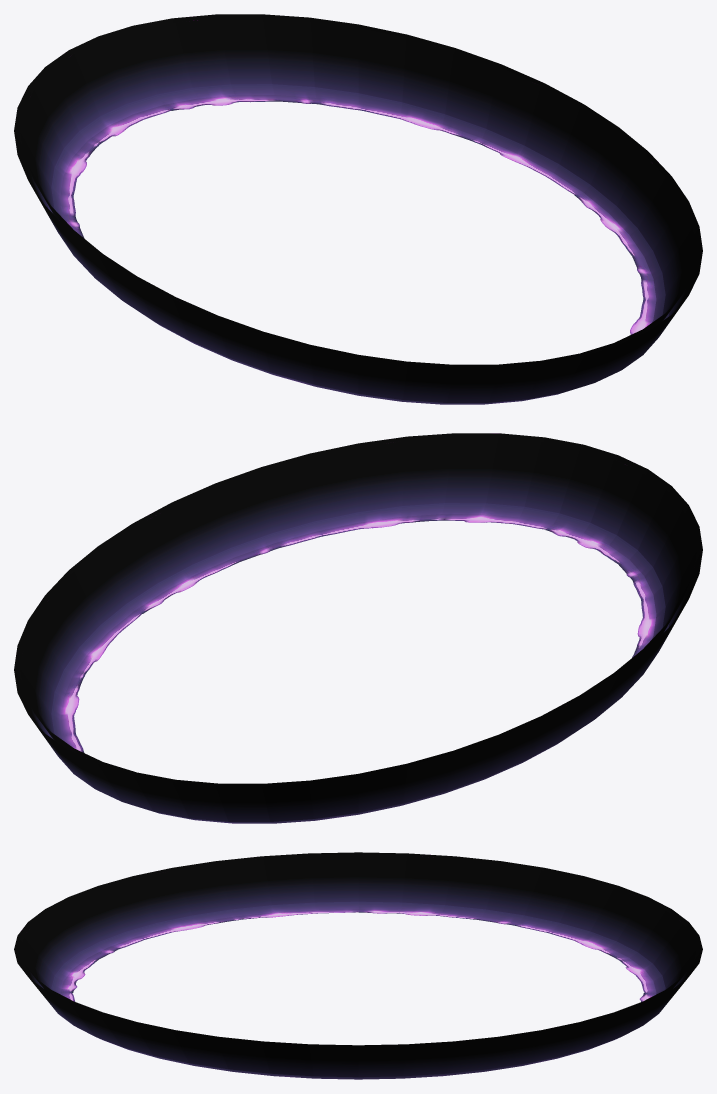
Rendered from p_charge_slow_dungeon.fbx.
3 views of the same model, one above another, from view 1: azimuth 30°, elevation 25°; view 2: azimuth 150°, elevation 25°; view 3: azimuth 270°, elevation 25° (orthographic). The views are drawn at different scales.
Visible parts, largest first — view 1: ring_inner, ring_outer; view 2: ring_inner, ring_outer; view 3: ring_inner, ring_outer.
Part boxes in pixels (bbox=[...]): ring_inner: bbox=[20, 18, 696, 367]; ring_outer: bbox=[14, 14, 702, 404]; ring_inner: bbox=[20, 437, 696, 786]; ring_outer: bbox=[14, 433, 702, 823]; ring_inner: bbox=[20, 855, 696, 1046]; ring_outer: bbox=[14, 852, 702, 1079].
Bounding box in the file's own units: 2.23 × 0.2385 × 3.34.
1 material, 1 textured.
